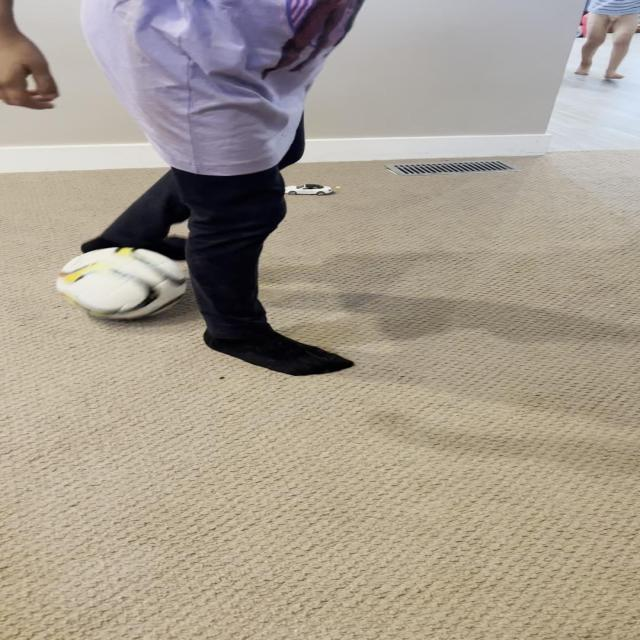Soccer Ball: (56, 247, 189, 319)
